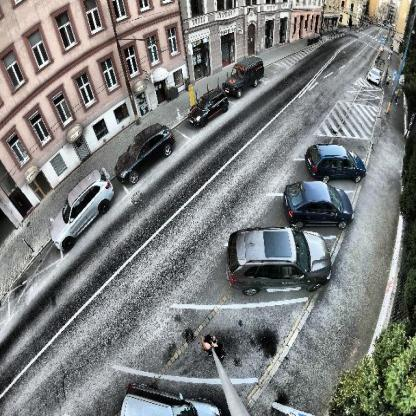free: (169, 319, 274, 378), (10, 239, 57, 284), (340, 95, 383, 133)
occupied: (227, 230, 337, 296), (110, 372, 227, 415), (43, 174, 115, 238), (282, 179, 353, 228), (116, 125, 180, 177), (308, 136, 371, 180), (224, 54, 270, 90), (188, 90, 228, 128), (366, 62, 384, 83)
